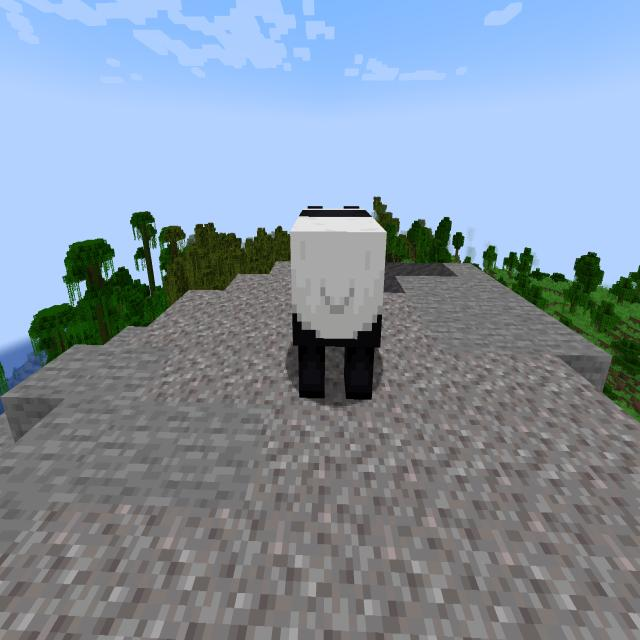Panda: (283, 192, 391, 416)
